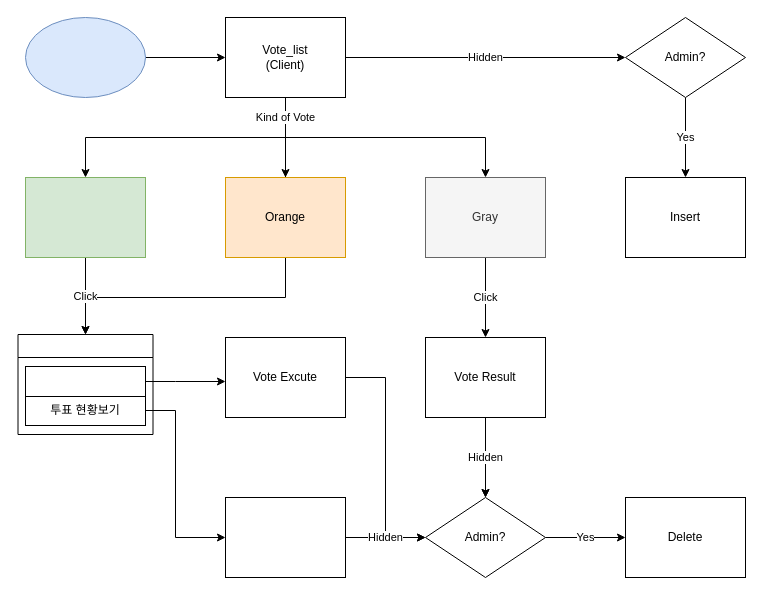
Some shapes in this 763 by 595 pixel diagram are drawn without their labels. Each missing label, with the box of its shape:
Client Popup: (17, 334, 153, 434)
Green: (24, 176, 146, 258)
Vote: (24, 16, 146, 98)
Vote status: (224, 496, 346, 578)
투표하기: (24, 366, 146, 396)
